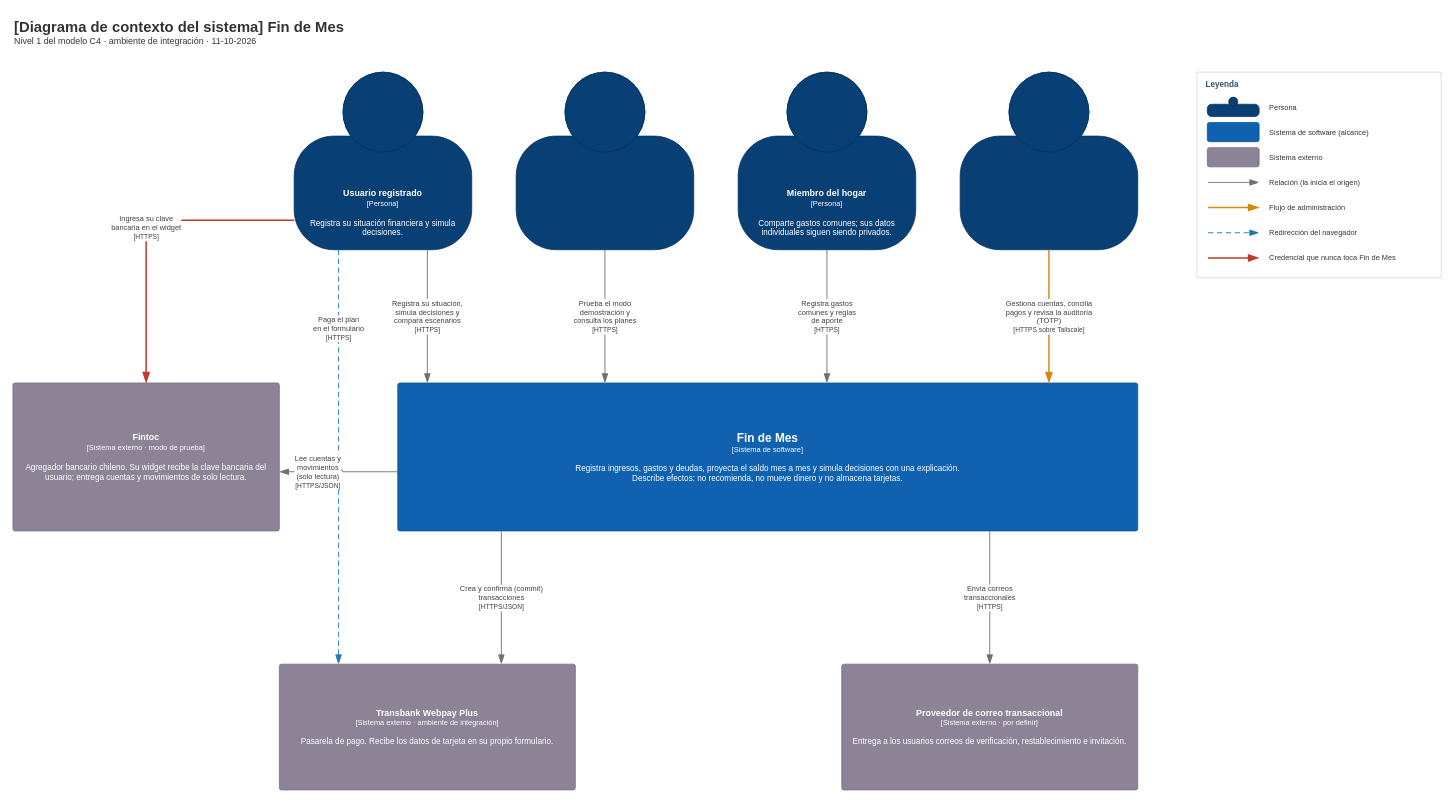
Image size: 1454x803. Some labels were removed from this diagram. Each missing label, with the centre of its shape:
Administrador de la plataforma [Persona] Operador interno del equipo.: (x=1048, y=160)
Visitante [Persona] Prueba el simulador y conoce los planes sin crear cuenta.: (x=604, y=160)
